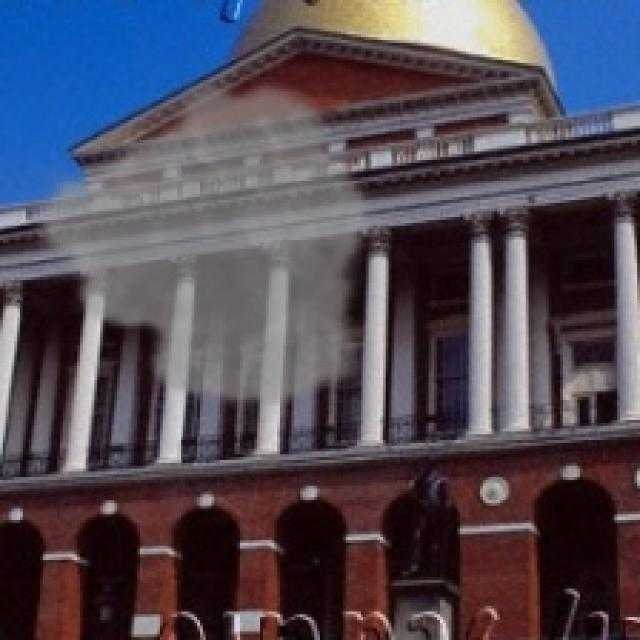smoke: (26, 72, 374, 414)
